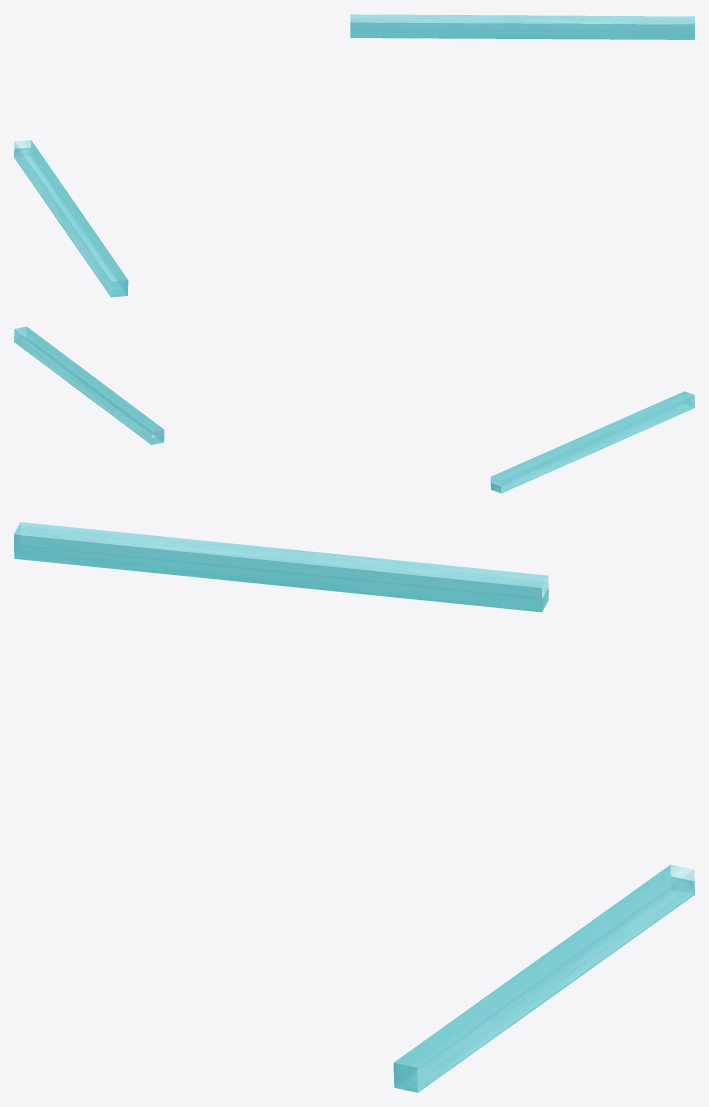
The model's file is laser_dome12.glb.
The picture shows the model from 3 angles, top to bottom: view 1: azimuth 30°, elevation 25°; view 2: azimuth 150°, elevation 25°; view 3: azimuth 270°, elevation 25°; orthographic projection. The views are drawn at different scales.
Parts seen in each view (by area): view 1: Cube.110; view 2: Cube.110; view 3: Cube.110.
Boxes of the visible parts, bbox=[...] form: Cube.110: bbox=[14, 14, 694, 297]; Cube.110: bbox=[14, 326, 694, 493]; Cube.110: bbox=[14, 522, 694, 1092].
Bounding box in the file's own units: 2.18 × 0.0492 × 1.15.
Materials: 1 (1 with a texture image).
